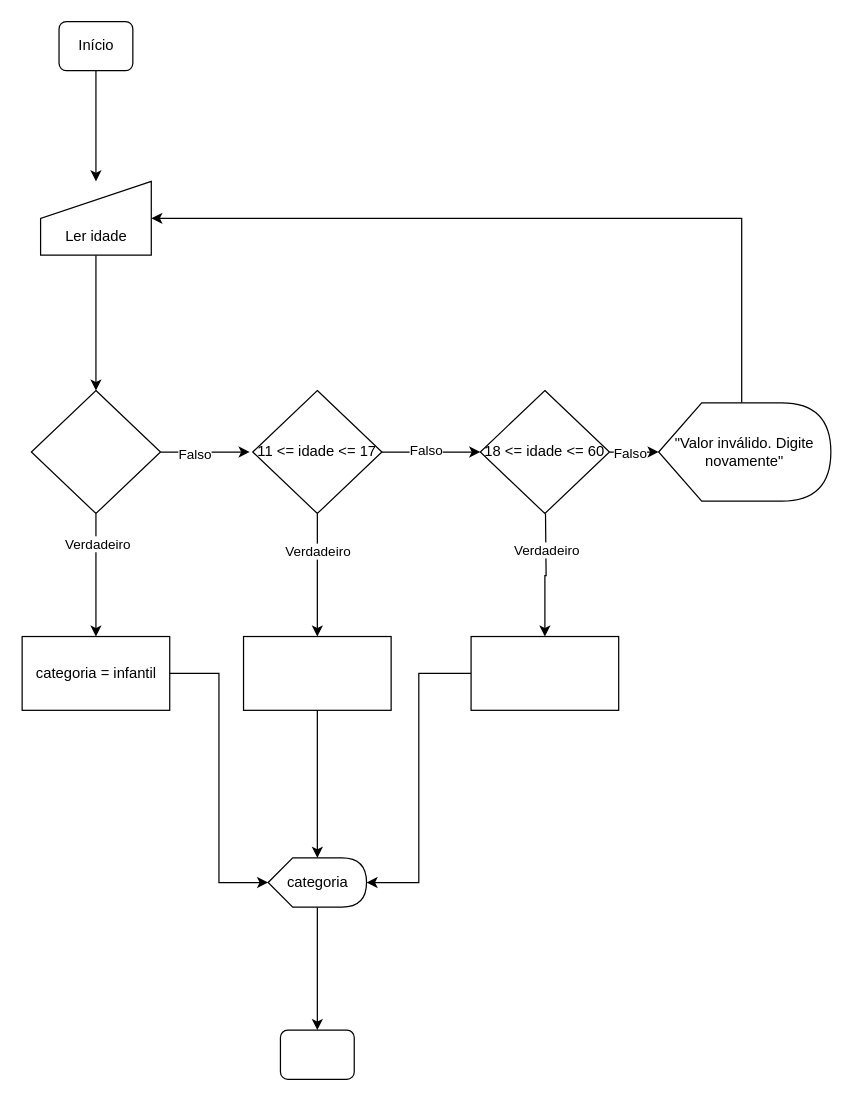
Image size: 852x1101. Some labels were removed from this diagram. Here are the shapes that lost their labels. From the top down, the centre of each, then its label:
the point at 95,451: 5 <= idade <= 10
the point at 316,672: categoria = juvenil
the point at 544,672: categoria = senior
the point at 316,1054: Fim
